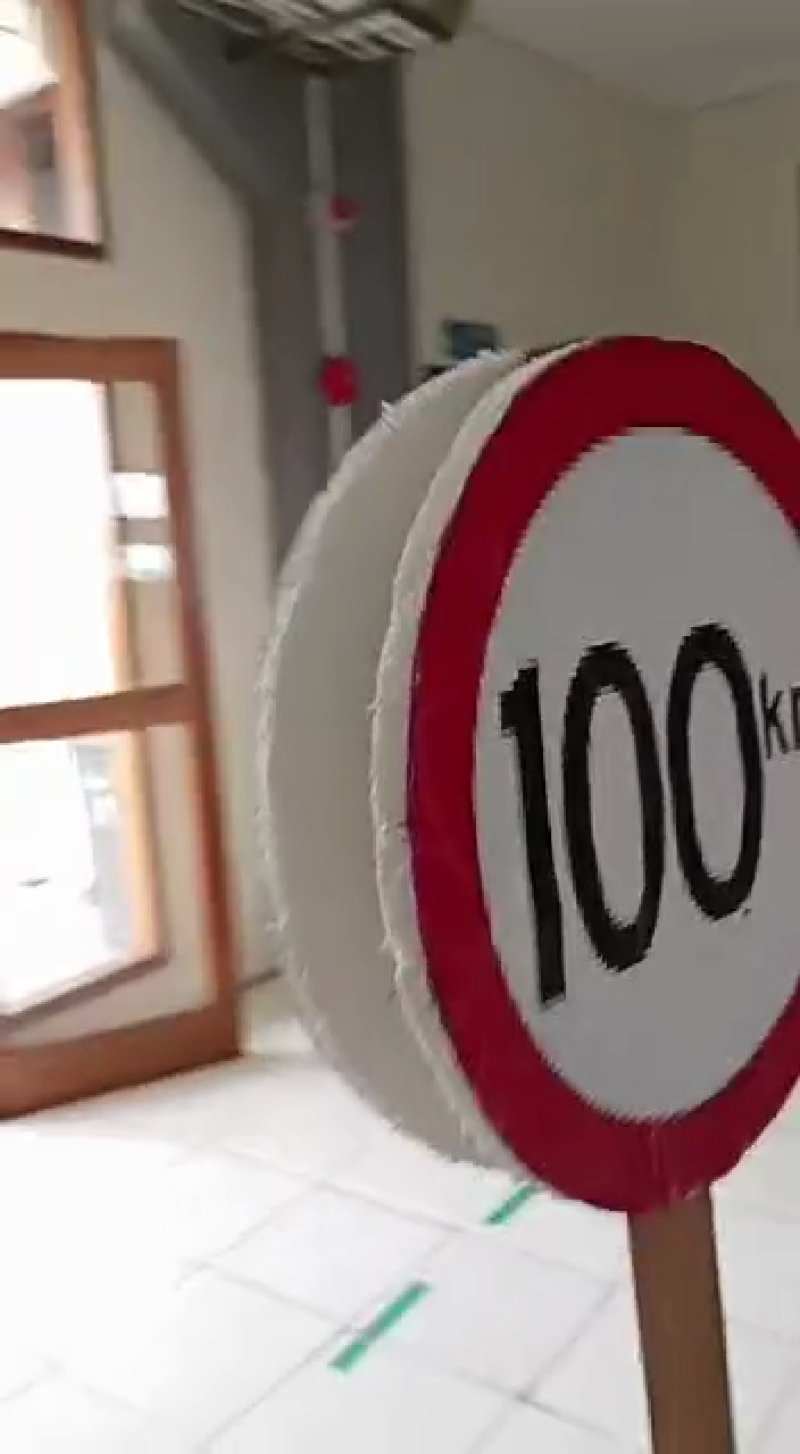batas maksimal 100kmperjam: (369, 315, 800, 1219)
